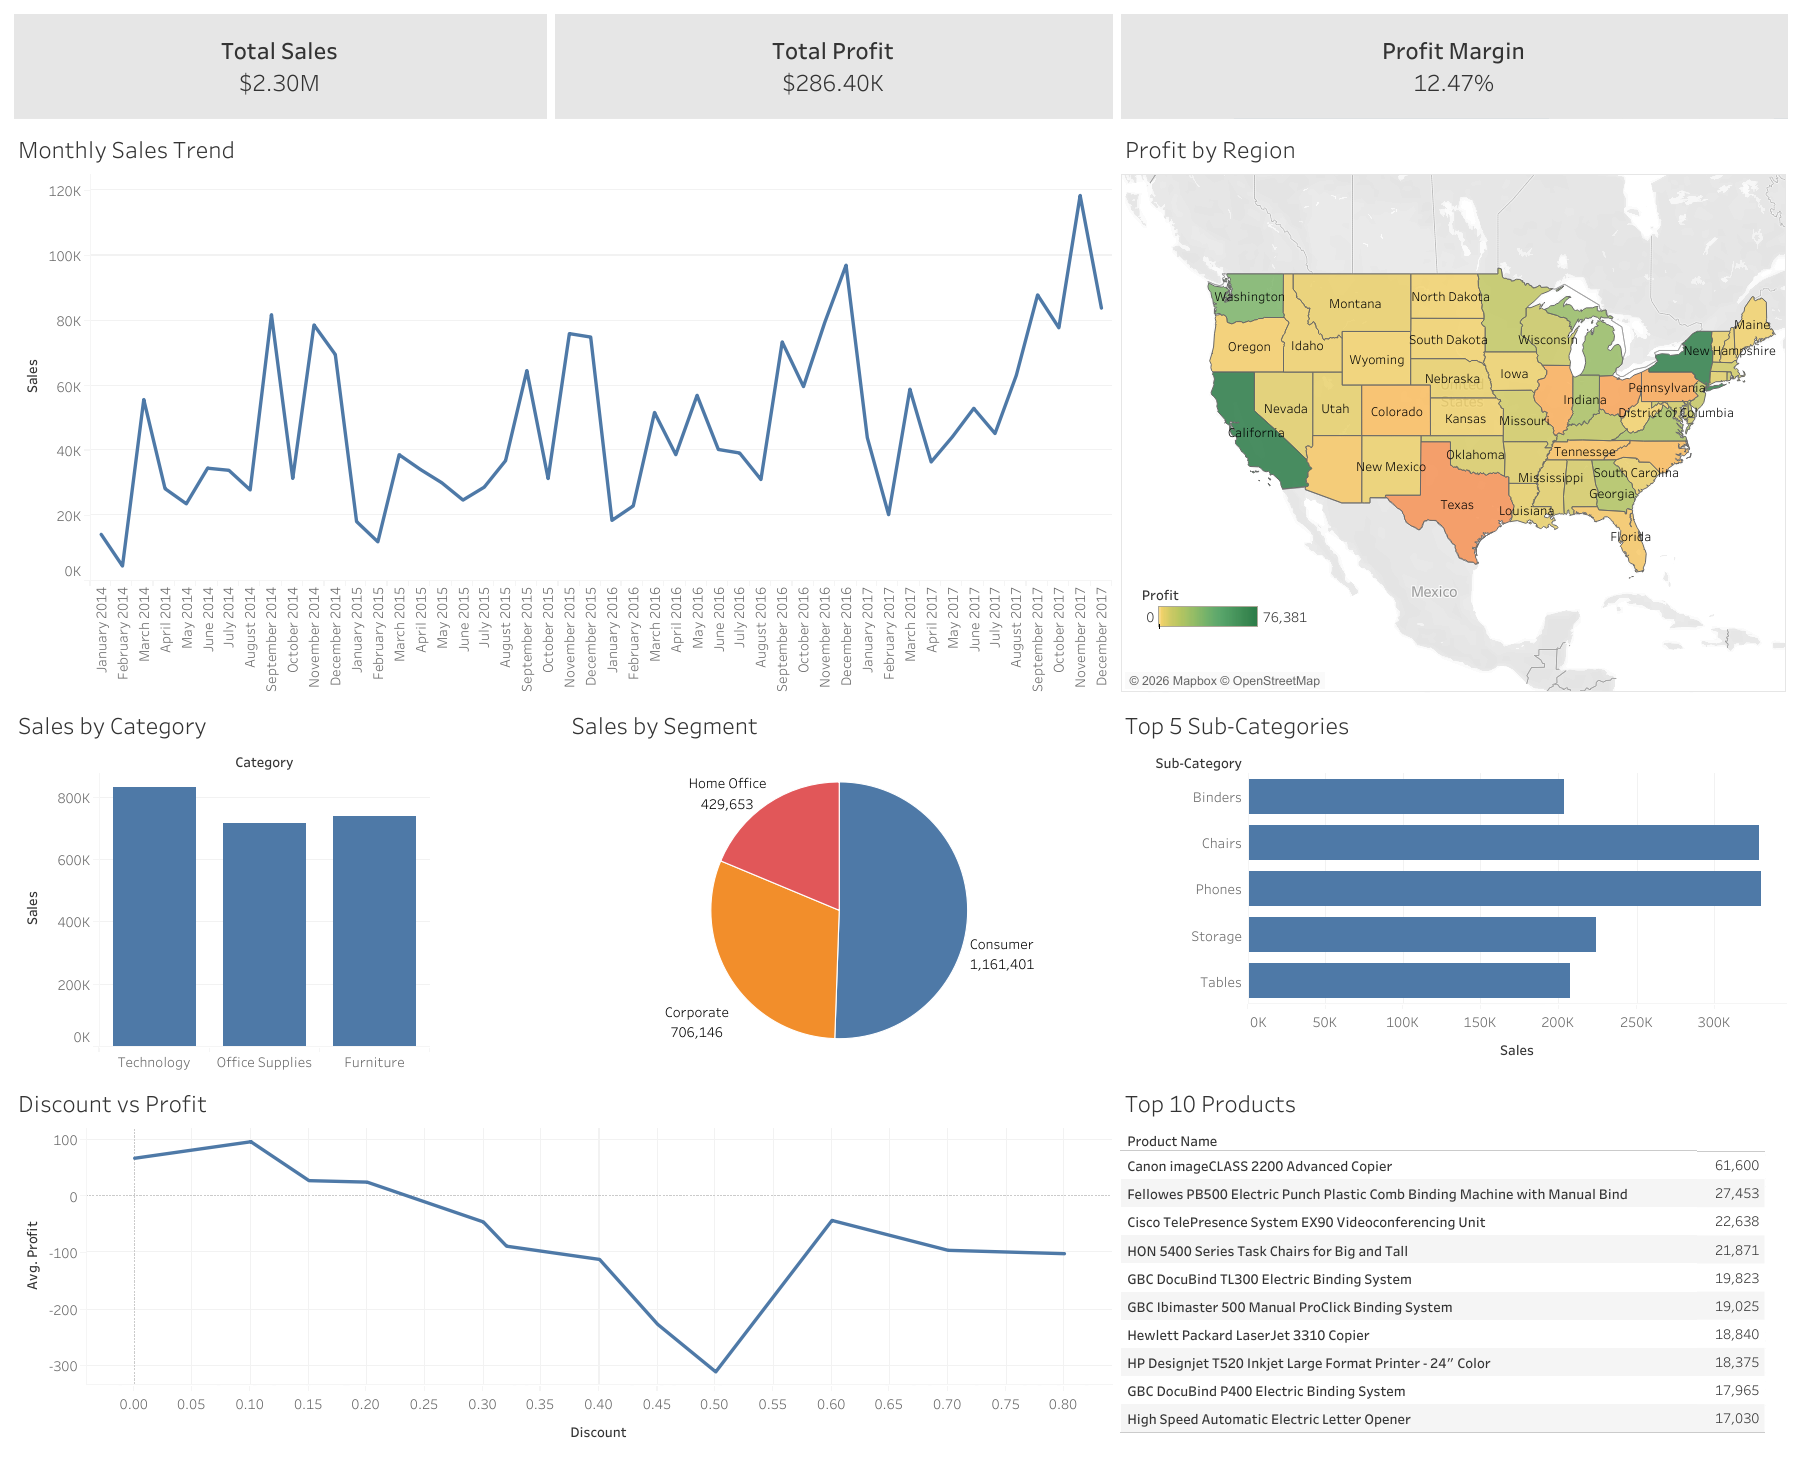

Layout of this report page (visuals, bound fields, positions):
{"tool":"tableau","page":{"name":"Dashboard 1","canvas":[1600,1300],"ordinal":0},"visuals":[{"type":"worksheet","title":"Sheet 1","mark":"Automatic","box":[8,8,481,100]},{"type":"worksheet","title":"Sheet 2","mark":"Automatic","box":[489,8,503,100]},{"type":"worksheet","title":"Sheet 11","mark":"Automatic","box":[992,8,600,100]},{"type":"worksheet","title":"Sheet 3","mark":"Automatic","rows":["Sales"],"cols":["Order Date"],"box":[8,108,984,512.3]},{"type":"worksheet","title":"Sheet 7","mark":"Automatic","box":[992,108,600,512]},{"type":"legend","title":"Sheet 7","param":"[federated.1btub4l1jjto9d17dvuwn1rfuqyf].[sum:Profit:qk]","box":[1015,515,152,79]},{"type":"worksheet","title":"Sheet 5","mark":"Automatic","rows":["Sub-Category"],"cols":["Sales"],"box":[992,620,600,336]},{"type":"worksheet","title":"Sheet 4","mark":"Automatic","rows":["Sales"],"cols":["Category"],"box":[8,620.4,492,335.6]},{"type":"worksheet","title":"Sheet 8","mark":"Pie","box":[500,620.4,492,335.6]},{"type":"worksheet","title":"Sheet 9","mark":"Line","rows":["Profit"],"cols":["Discount"],"box":[8,956,984,336]},{"type":"worksheet","title":"Sheet 6","mark":"Automatic","rows":["Product Name"],"box":[992,956,600,336]}]}

Visuals, with their boxes in screenshot pixels (x1, y1, x2, y2), scaled from the page's 1600x1300 canvas onto the 1799x1461 screenshot:
"Sheet 1" worksheet: <bbox>9, 9, 550, 121</bbox>
"Sheet 2" worksheet: <bbox>550, 9, 1115, 121</bbox>
"Sheet 11" worksheet: <bbox>1115, 9, 1790, 121</bbox>
"Sheet 3" worksheet: <bbox>9, 121, 1115, 697</bbox>
"Sheet 7" worksheet: <bbox>1115, 121, 1790, 697</bbox>
"Sheet 7" legend: <bbox>1141, 579, 1312, 668</bbox>
"Sheet 5" worksheet: <bbox>1115, 697, 1790, 1074</bbox>
"Sheet 4" worksheet: <bbox>9, 697, 562, 1074</bbox>
"Sheet 8" worksheet (Pie marks): <bbox>562, 697, 1115, 1074</bbox>
"Sheet 9" worksheet (Line marks): <bbox>9, 1074, 1115, 1452</bbox>
"Sheet 6" worksheet: <bbox>1115, 1074, 1790, 1452</bbox>
